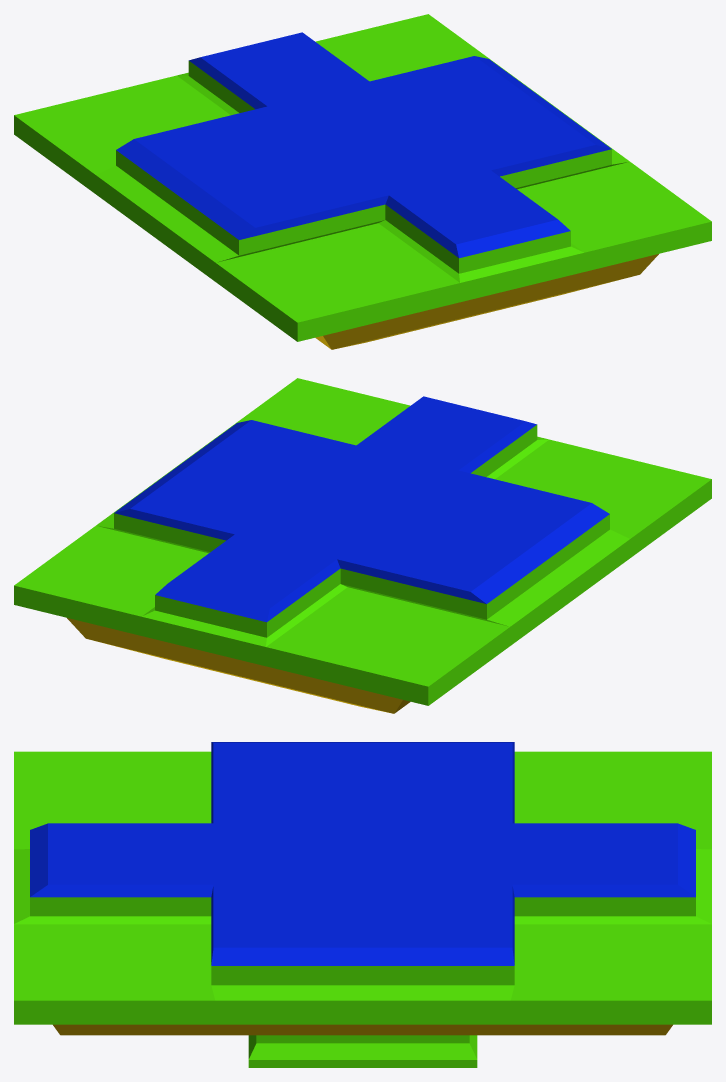
3 renders of one model, top to bottom at view 1: azimuth 30°, elevation 25°; view 2: azimuth 150°, elevation 25°; view 3: azimuth 270°, elevation 25°, orthographic. The views are drawn at different scales.
Visible parts, largest first — view 1: Cube; view 2: Cube; view 3: Cube.
Part boxes in pixels (x1,y1,x2,y2): Cube: (14, 14, 711, 349); Cube: (14, 378, 711, 713); Cube: (14, 742, 711, 1067).
Size of the model in its own units: 4.41 by 5.22 by 1.58.
